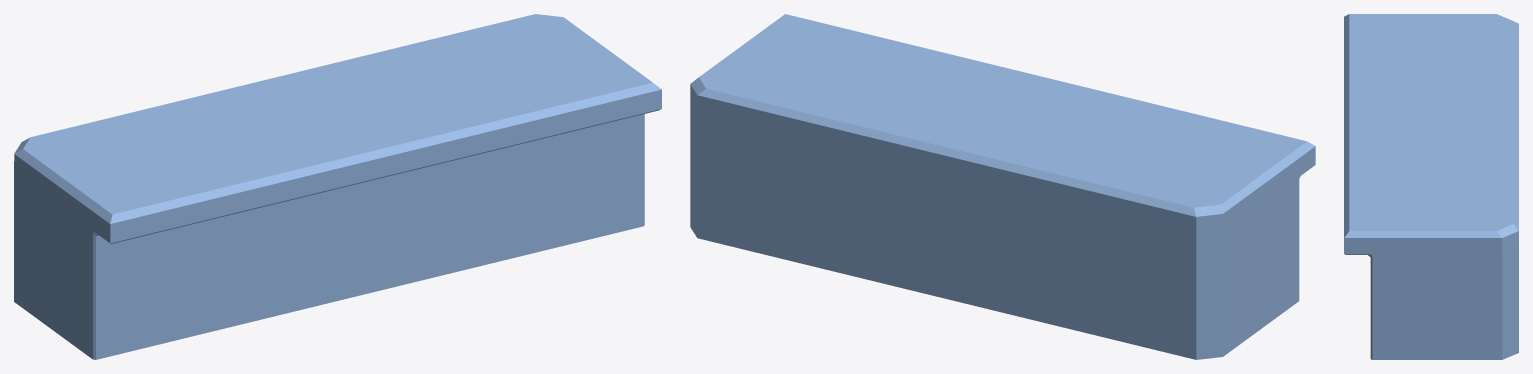
The model's file is desk.glb.
The picture shows the model from 3 angles, left to right: view 1: azimuth 30°, elevation 25°; view 2: azimuth 150°, elevation 25°; view 3: azimuth 270°, elevation 25°; orthographic projection. The views are drawn at different scales.
Parts seen in each view (by area): view 1: Desk-col; view 2: Desk-col; view 3: Desk-col.
Boxes of the visible parts, box(x1,y1,x2,y2) form: Desk-col: box(14, 14, 661, 359); Desk-col: box(690, 14, 1315, 359); Desk-col: box(1344, 14, 1518, 359).
Size of the model in its own units: 3 by 0.8 by 1.
